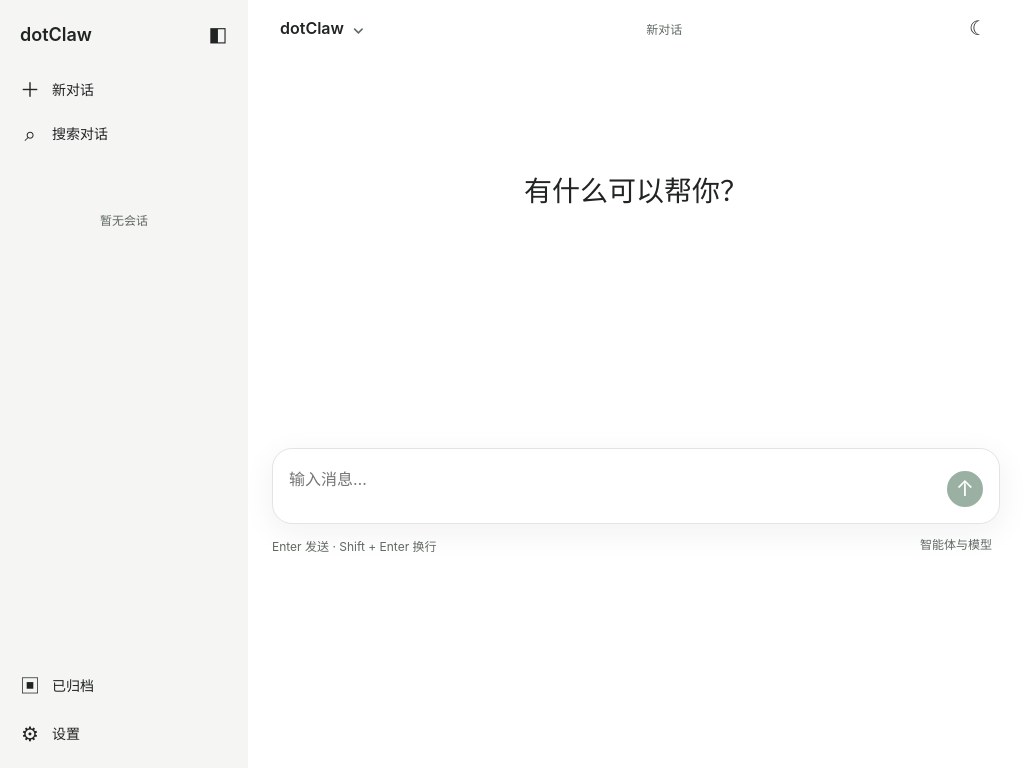
Test case: 首次创建尚未完成时消息区立即显示发送提示，创建失败保留草稿
The width and height of the screenshot is (1024, 768).
Expected: the heading "有什么可以帮你？" is shown, [524,174,748,208]
In the text box labelled "输入消息": [612, 487] box [289,463,935,511], type "创建期间的原问题"
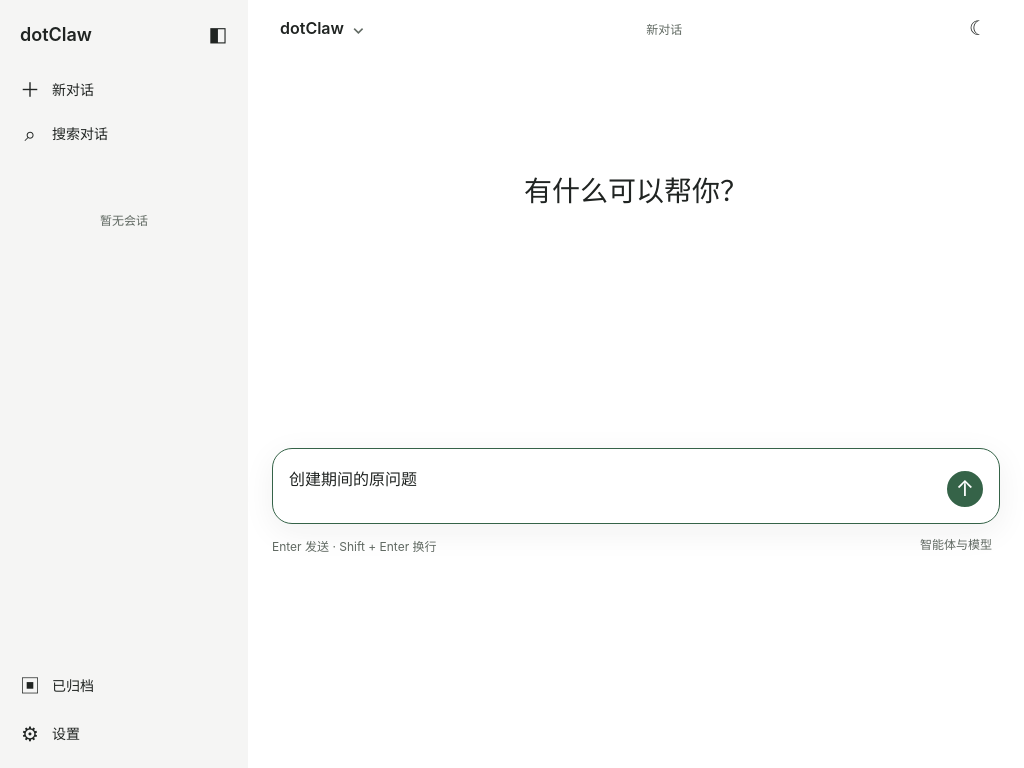
Click the button named "发送消息": [965, 489] box [943,467,987,511]
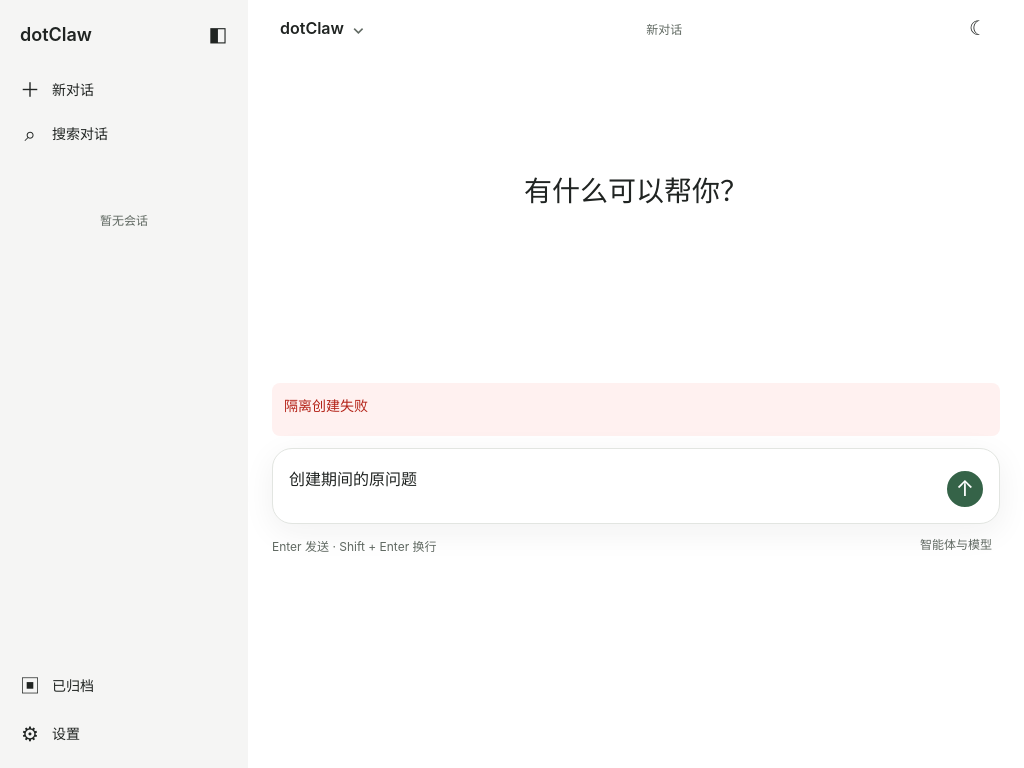
Result: the text "隔离创建失败" is shown at [284,397,368,414]
